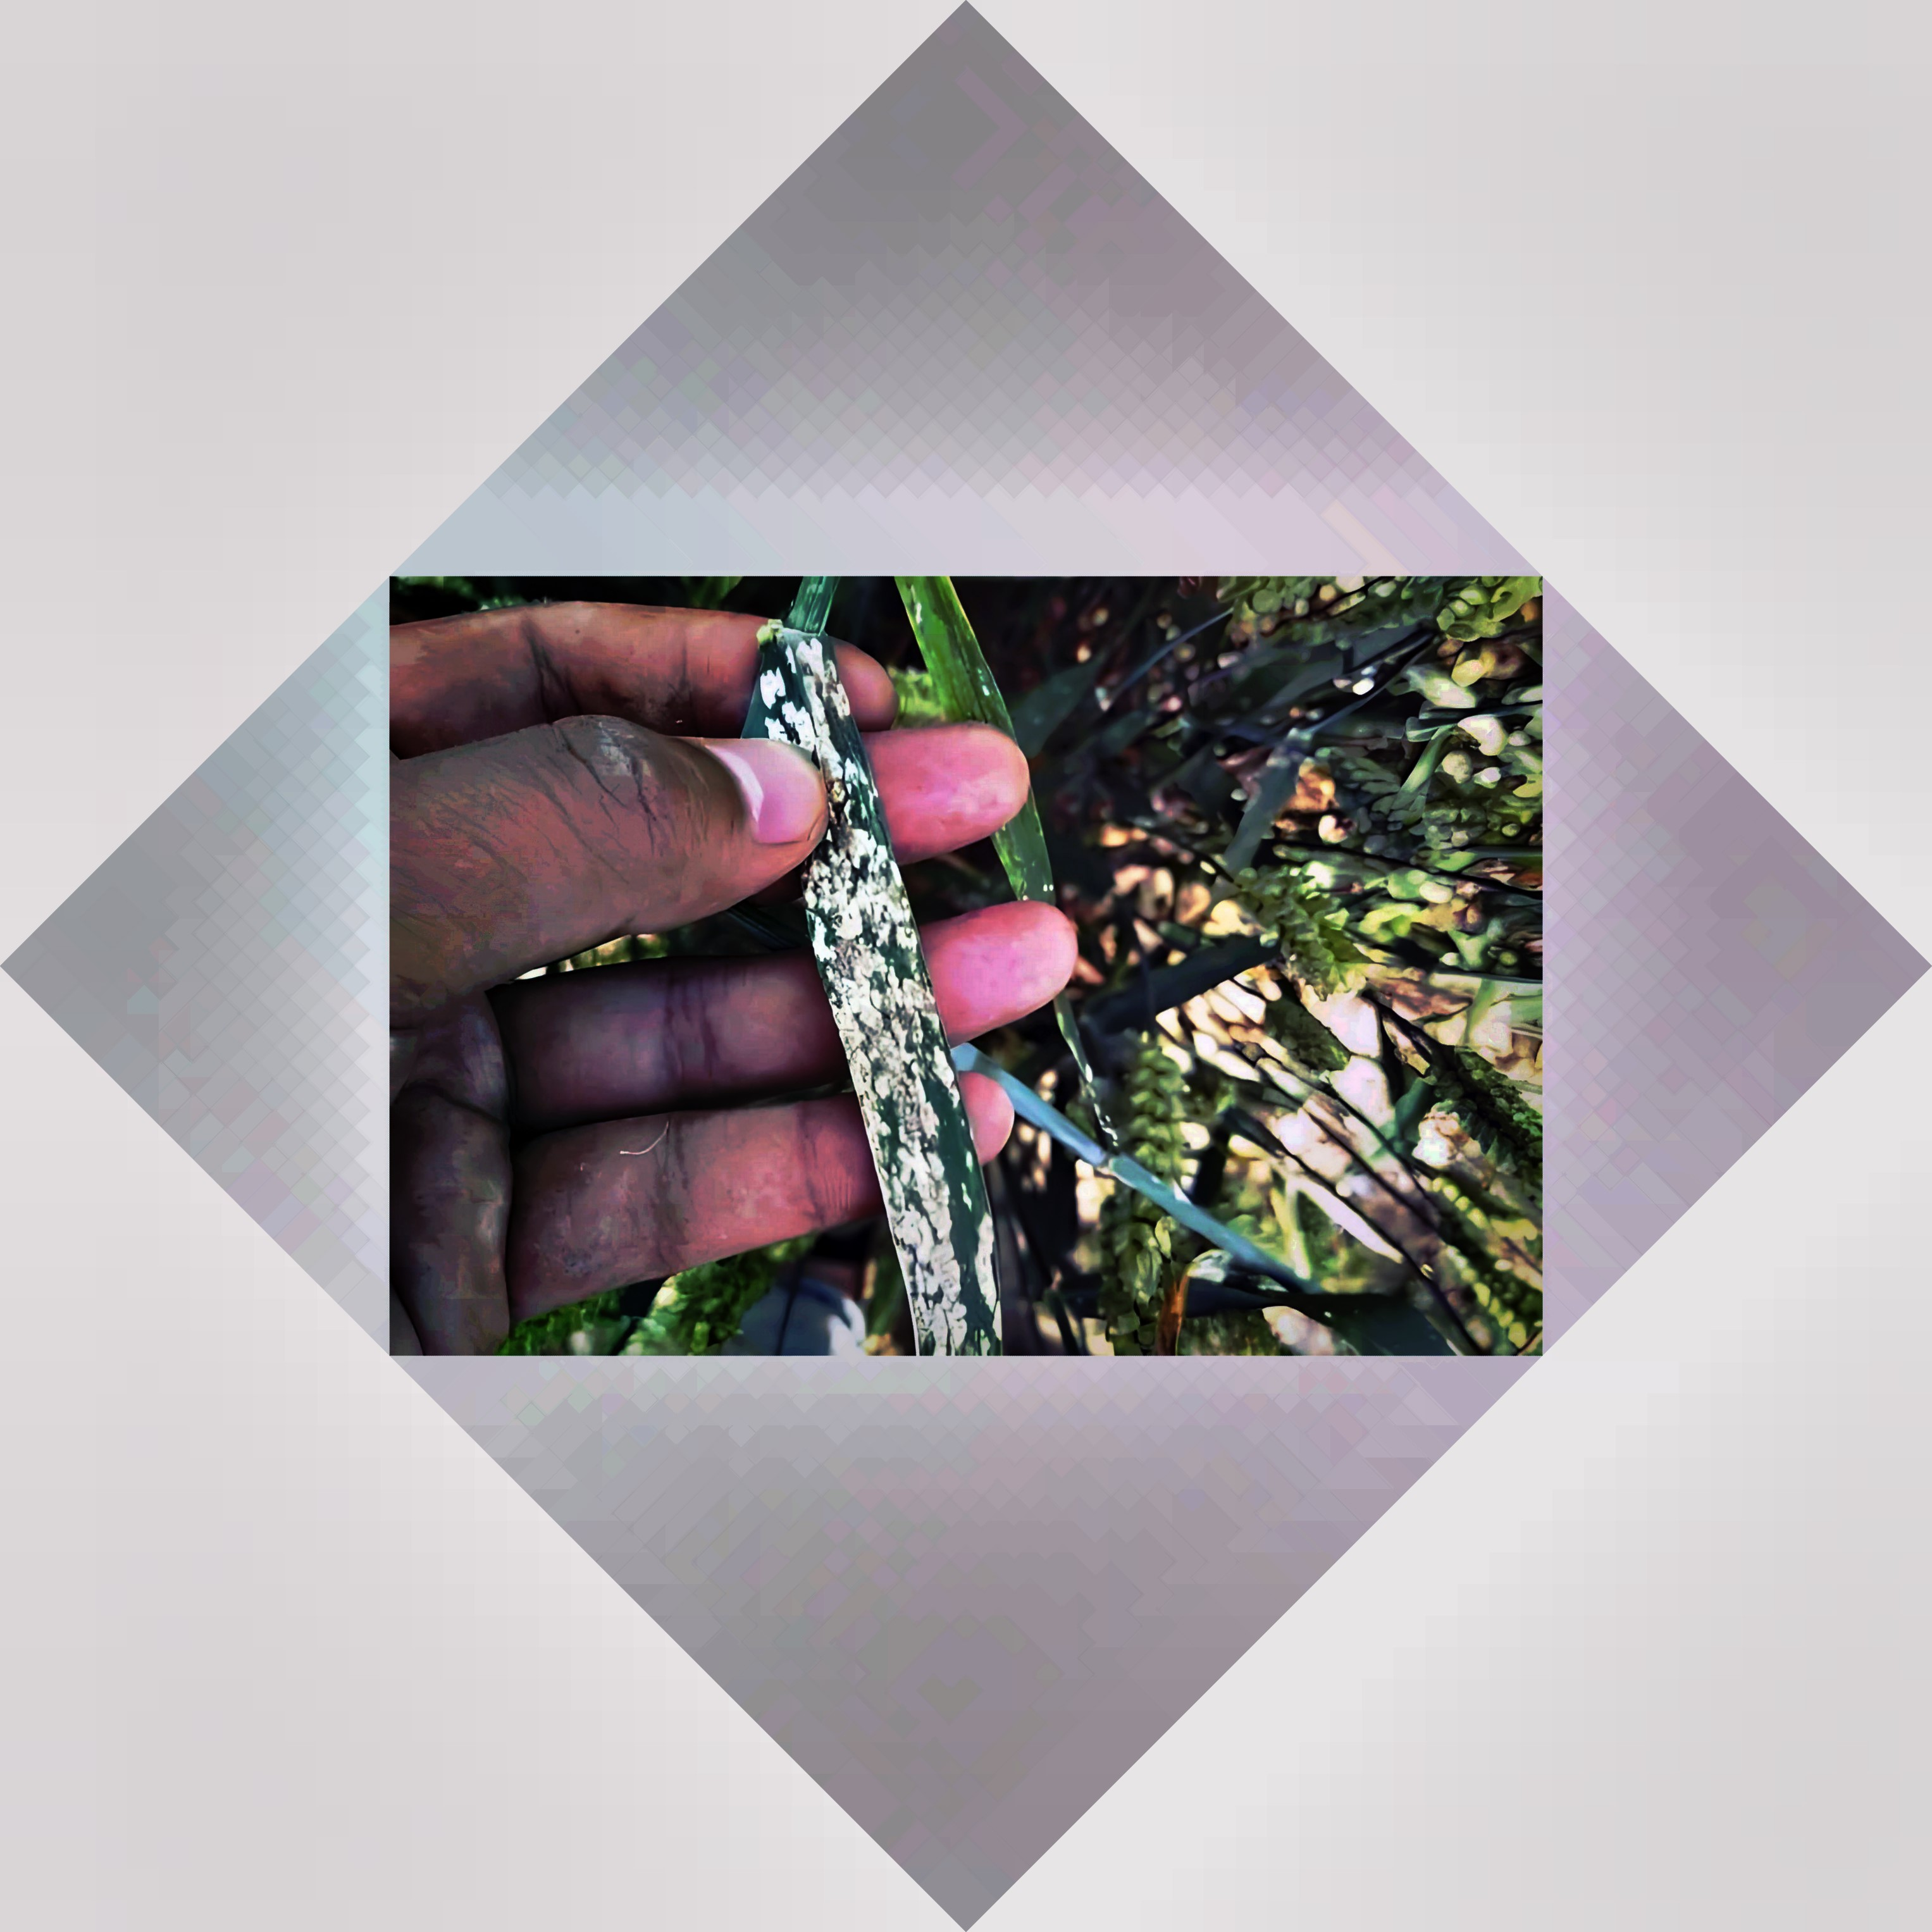Powdery Mildew: (759, 679, 996, 1334)
